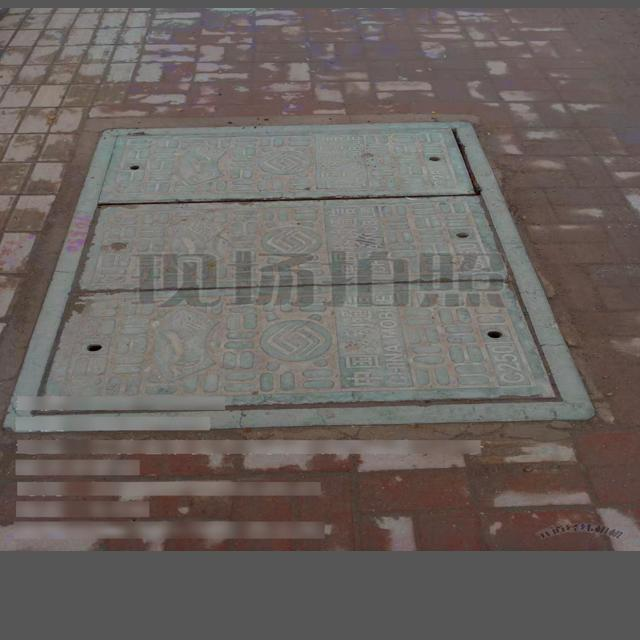good: (1, 118, 599, 431)
